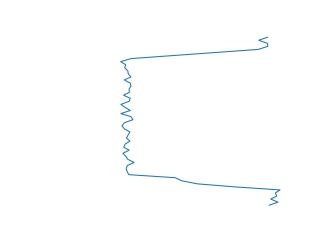distributaryChannelFill: (114, 36, 288, 208)
